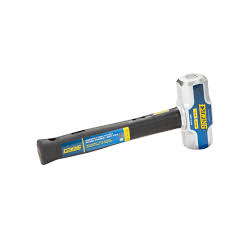hammer: (36, 72, 214, 166)
